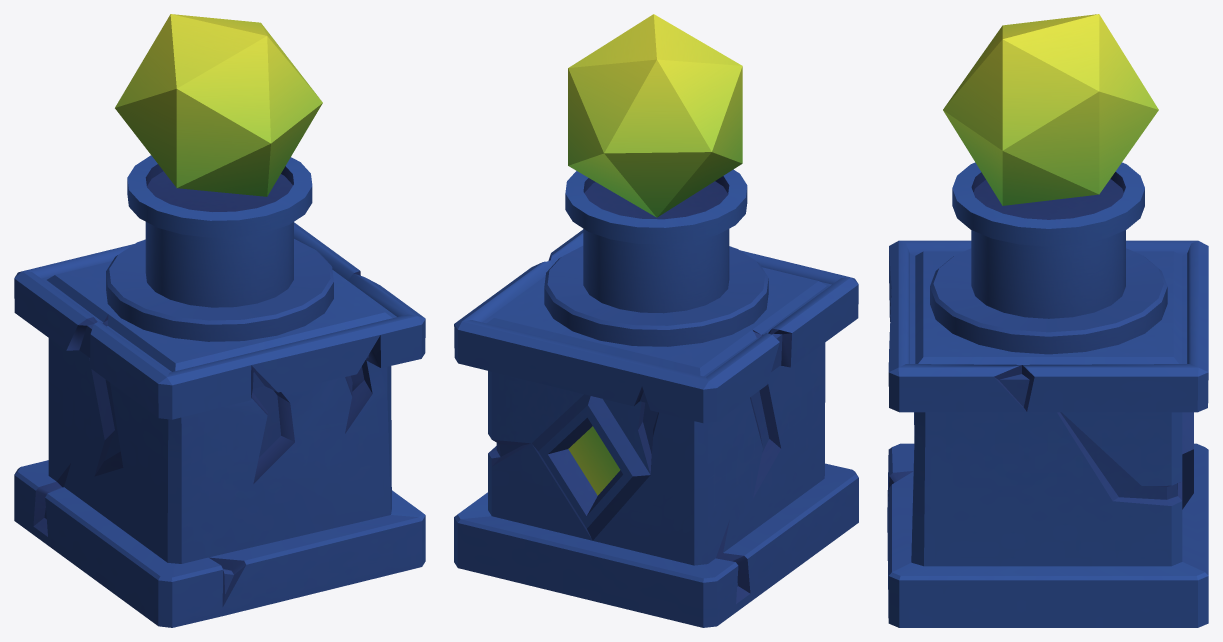
Rendered from laserResiver.fbx.
3 views of the same model, side by side, from view 1: azimuth 30°, elevation 25°; view 2: azimuth 150°, elevation 25°; view 3: azimuth 270°, elevation 25° (orthographic). The views are drawn at different scales.
Visible parts, largest first — view 1: polySurface206; view 2: polySurface206; view 3: polySurface206.
Part boxes in pixels (x1,y1,x2,y2): polySurface206: [14, 14, 425, 627]; polySurface206: [454, 14, 858, 627]; polySurface206: [887, 14, 1208, 627].
Bounding box in the file's own units: 76.38 × 141 × 76.67.
